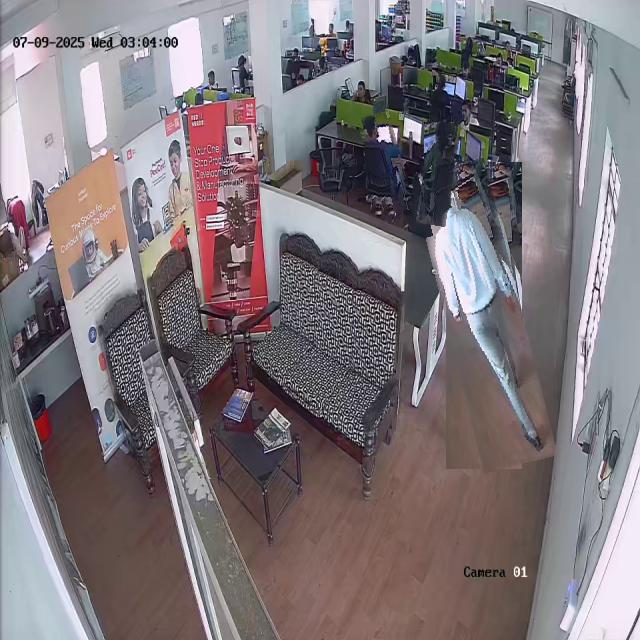person: (428, 160, 540, 471), (363, 112, 408, 215), (420, 121, 458, 227)
